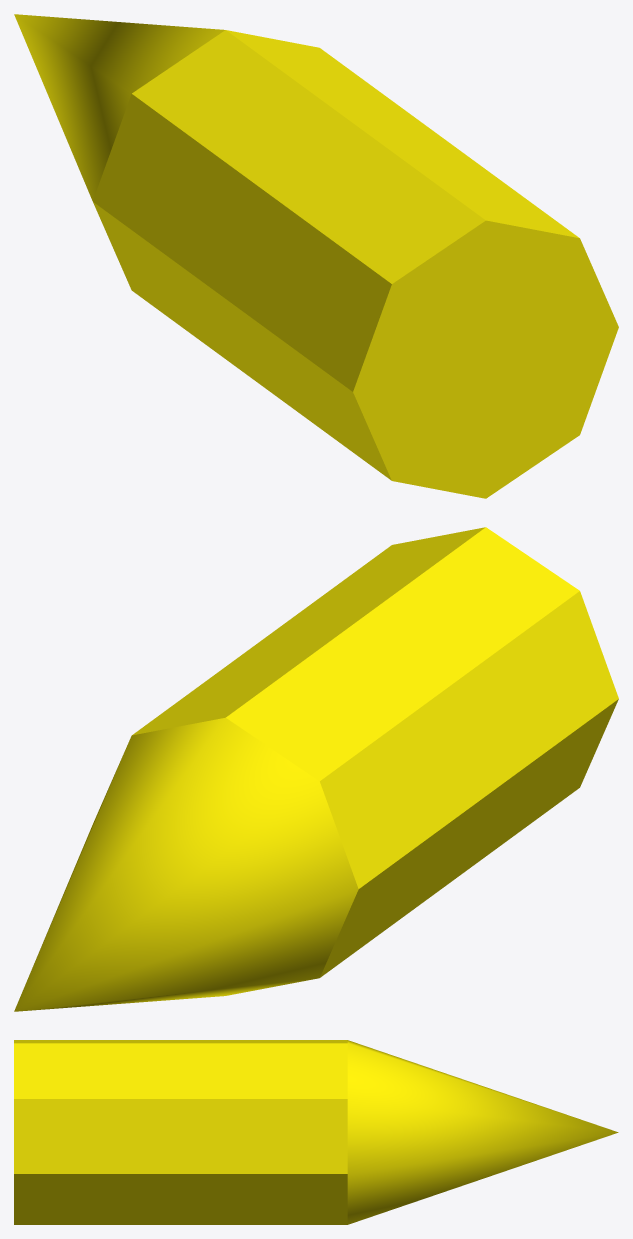
File: NewBullet.fbx
The picture shows the model from 3 angles, top to bottom: view 1: azimuth 30°, elevation 25°; view 2: azimuth 150°, elevation 25°; view 3: azimuth 270°, elevation 25°; orthographic projection. The views are drawn at different scales.
Parts seen in each view (by area): view 1: pCylinder1; view 2: pCylinder1; view 3: pCylinder1.
Part boxes in pixels (<box>): pCylinder1: <box>14,14,618,498</box>; pCylinder1: <box>14,527,618,1011</box>; pCylinder1: <box>14,1040,618,1224</box>.
Size of the model in its own units: 0.2 by 0.2 by 0.6148.
